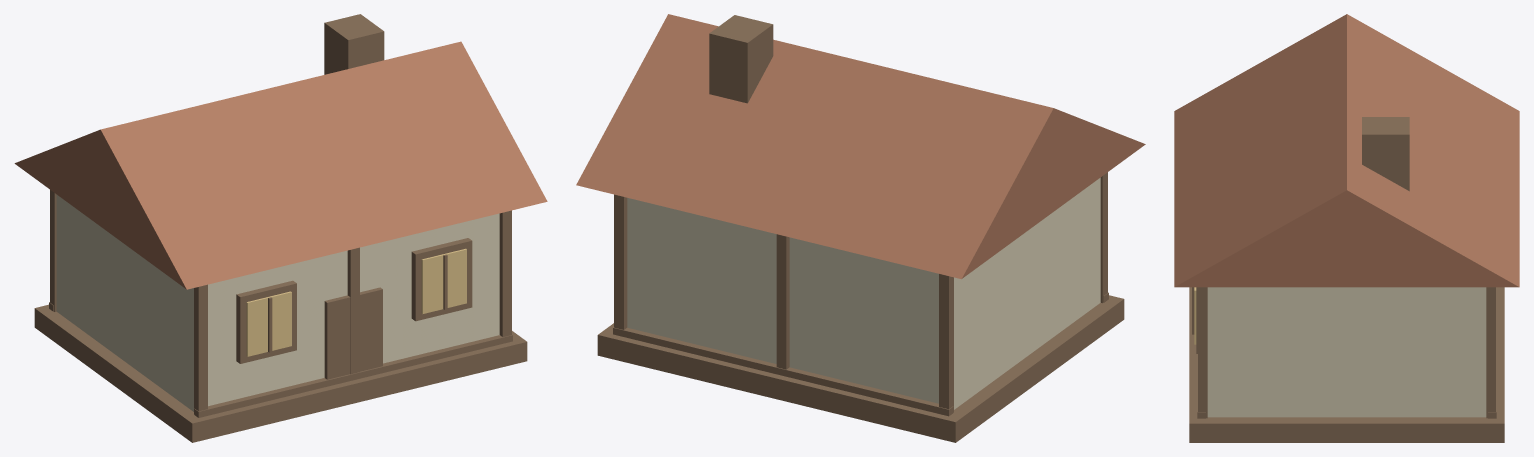
Rendered from house.glb.
The picture shows the model from 3 angles, left to right: view 1: azimuth 30°, elevation 25°; view 2: azimuth 150°, elevation 25°; view 3: azimuth 270°, elevation 25°; orthographic projection. The views are drawn at different scales.
Visible parts, largest first — view 1: Gabled roof, Plaster house, Stone foundation, Window glass; view 2: Gabled roof, Plaster house, Stone foundation; view 3: Gabled roof, Plaster house, Stone foundation.
Part boxes in pixels (x1,y1,x2,y2): Gabled roof: [14, 41, 547, 289]; Plaster house: [56, 195, 499, 411]; Stone foundation: [34, 14, 527, 442]; Window glass: [246, 248, 466, 356]; Gabled roof: [576, 14, 1145, 279]; Plaster house: [627, 177, 1100, 409]; Stone foundation: [597, 15, 1124, 442]; Gabled roof: [1174, 14, 1519, 287]; Plaster house: [1207, 287, 1486, 417]; Stone foundation: [1189, 117, 1504, 442].
Size of the model in its own units: 7 by 5.2 by 5.8.
